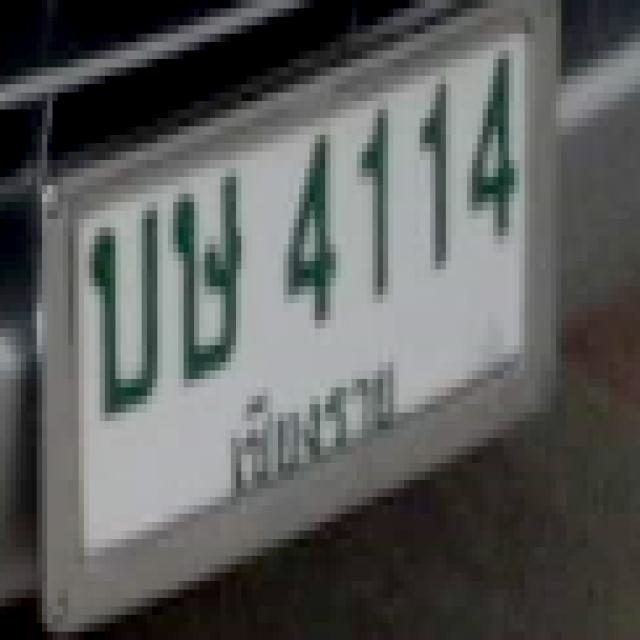license_plate: (31, 0, 568, 640)
